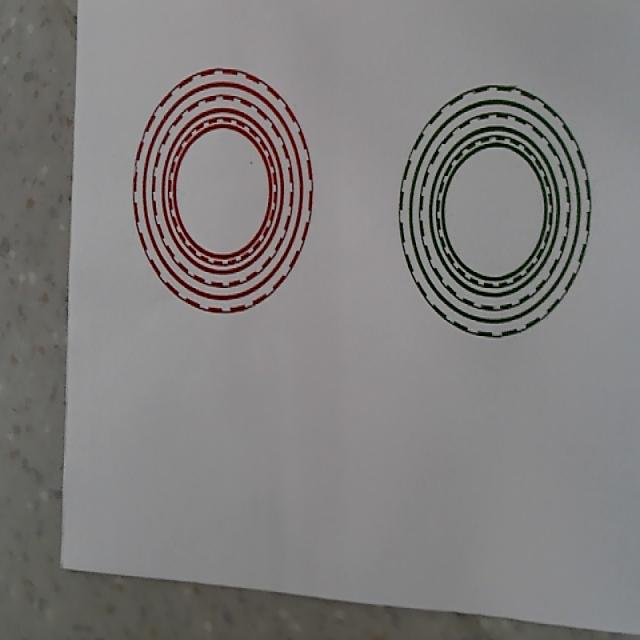g: (398, 84, 592, 340)
red-green-blue: (133, 68, 314, 313)
